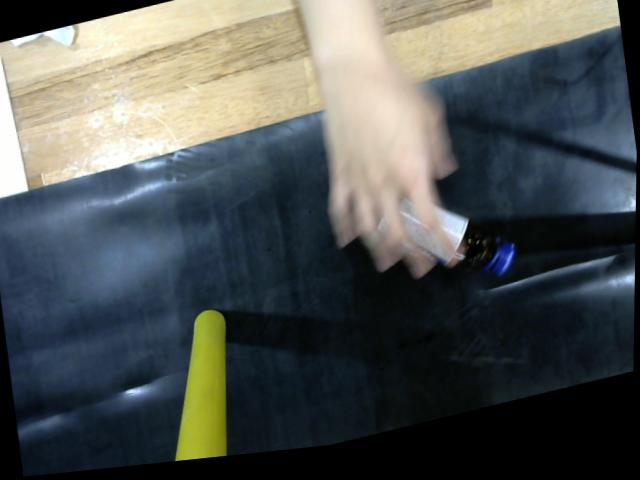glass: (371, 198, 521, 292)
